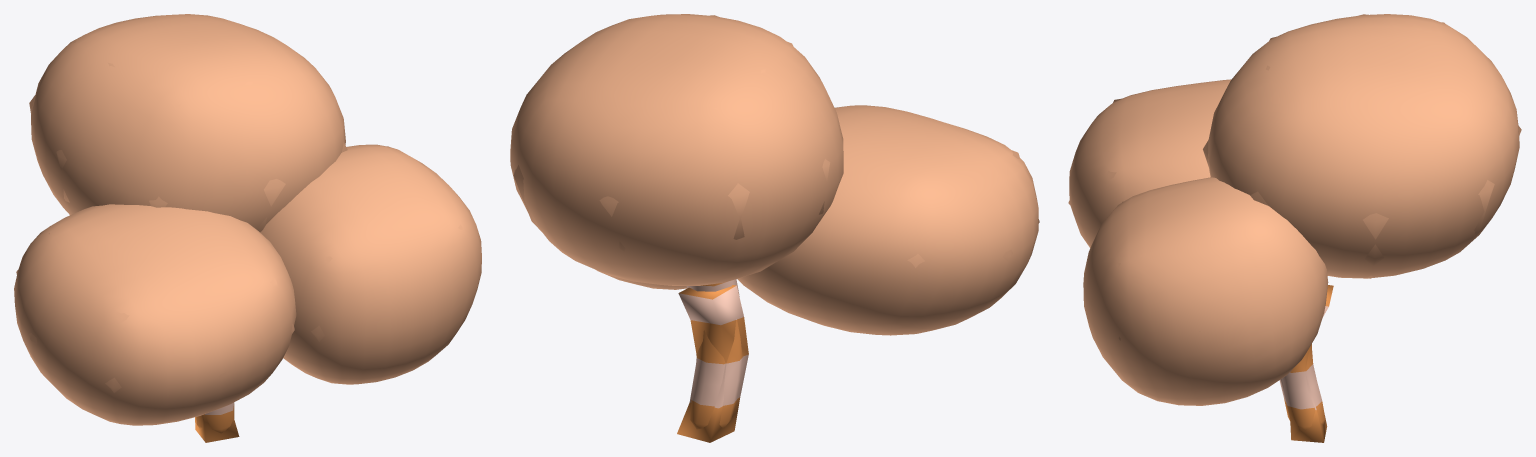
File: Tree_Marshmallow_03.fbx
3 renders of one model, left to right at view 1: azimuth 30°, elevation 25°; view 2: azimuth 150°, elevation 25°; view 3: azimuth 270°, elevation 25°, orthographic. The views are drawn at different scales.
Parts seen in each view (by area): view 1: Tree_Marshmallow_03_LOD0, Tree_Marshmallow_033; view 2: Tree_Marshmallow_03_LOD0, Tree_Marshmallow_033; view 3: Tree_Marshmallow_03_LOD0, Tree_Marshmallow_033.
Part boxes in pixels (x1=…): Tree_Marshmallow_03_LOD0: x1=14, y1=14, x2=481, y2=433; Tree_Marshmallow_033: x1=16, y1=40, x2=477, y2=442; Tree_Marshmallow_03_LOD0: x1=510, y1=14, x2=1038, y2=429; Tree_Marshmallow_033: x1=513, y1=15, x2=1039, y2=442; Tree_Marshmallow_03_LOD0: x1=1069, y1=14, x2=1519, y2=430; Tree_Marshmallow_033: x1=1068, y1=14, x2=1521, y2=442.
Size of what is drawn, in the model's own units: 848 by 716 by 756.
